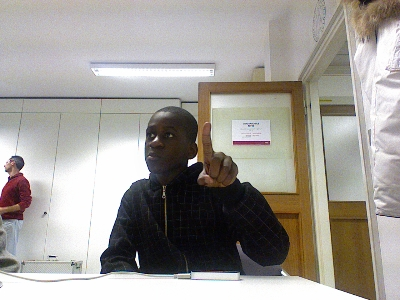食指: (196, 121, 239, 189)
